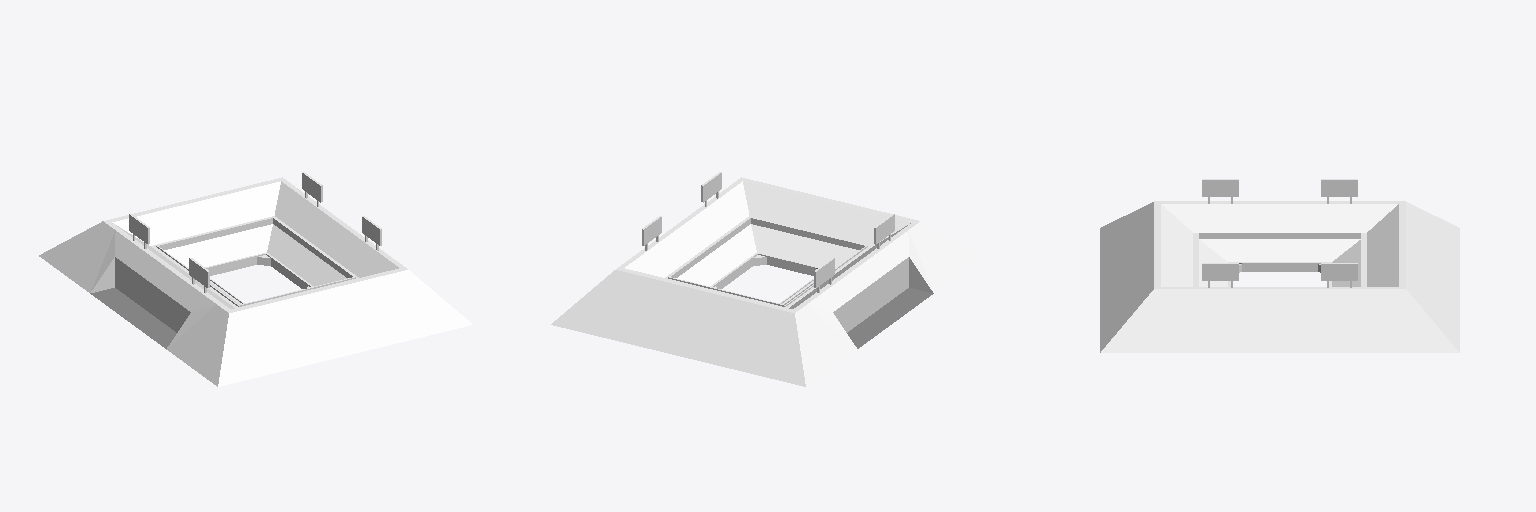
Rendered from arena_colleseum.obj.
3 views of the same model, side by side, from view 1: azimuth 30°, elevation 25°; view 2: azimuth 150°, elevation 25°; view 3: azimuth 270°, elevation 25° (orthographic).
Visible parts, largest first — view 1: Plane002, Box004; view 2: Plane002, Box004; view 3: Plane002, Box004.
Boxes of the visible parts, <box> form: Plane002: <box>39,177,472,386</box>; Box004: <box>129,172,381,292</box>; Plane002: <box>551,177,984,386</box>; Box004: <box>642,172,894,292</box>; Plane002: <box>1100,201,1459,352</box>; Box004: <box>1202,179,1357,287</box>.
Size of the model in its own units: 904 by 232 by 1100.